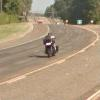Motorcycle: (41, 29, 74, 65)
